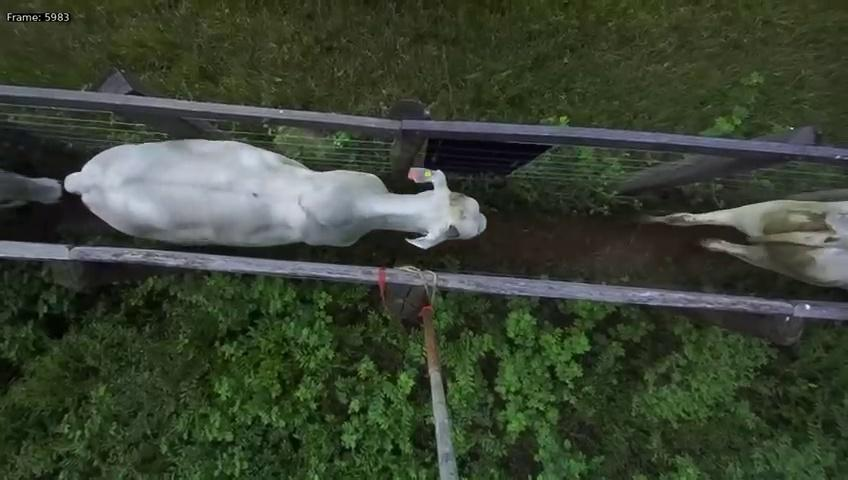cattle: (61, 133, 488, 251)
